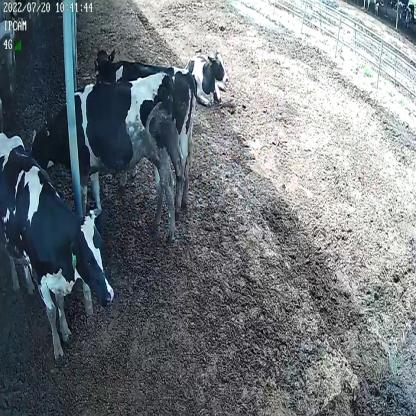cow: (30, 72, 194, 252), (0, 128, 115, 358), (95, 41, 197, 216), (187, 43, 231, 107)
